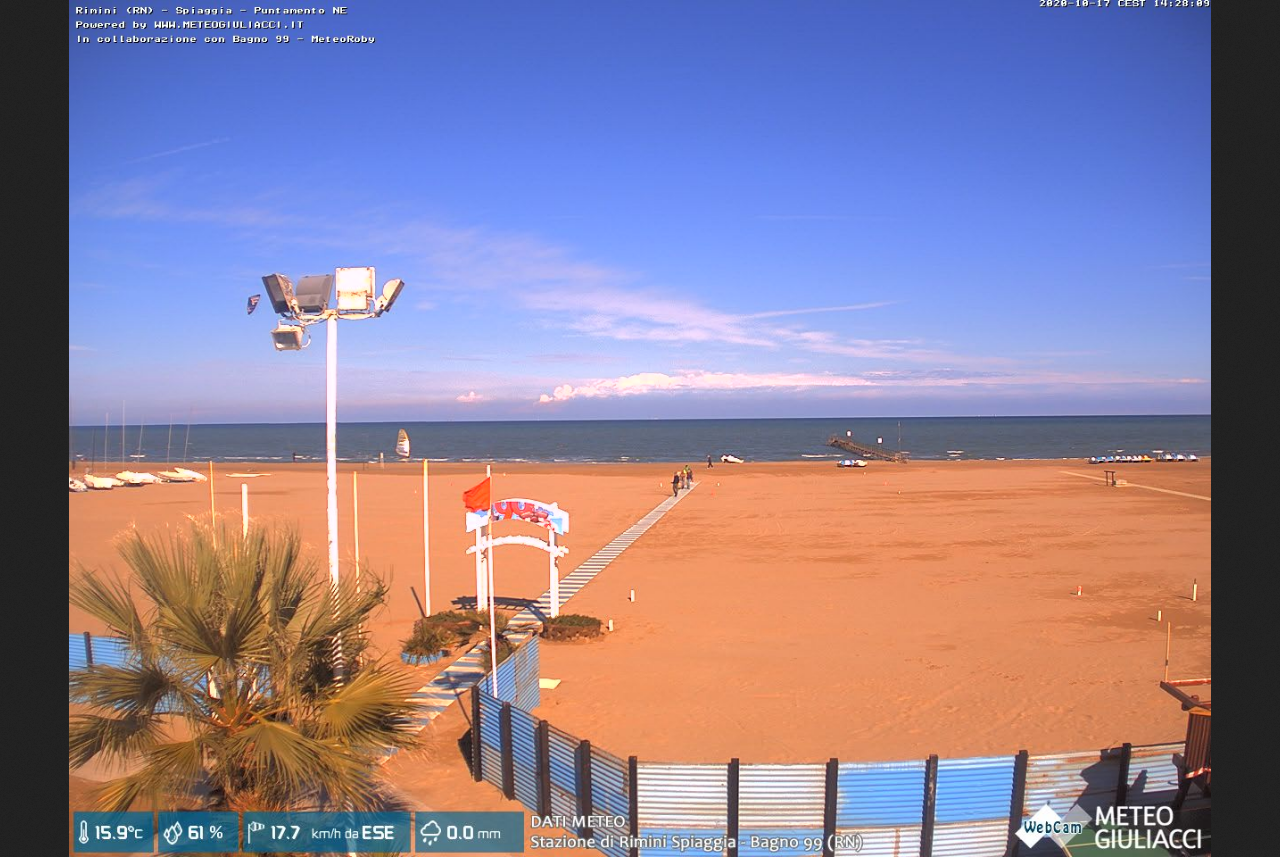yes: (460, 476, 493, 517)
